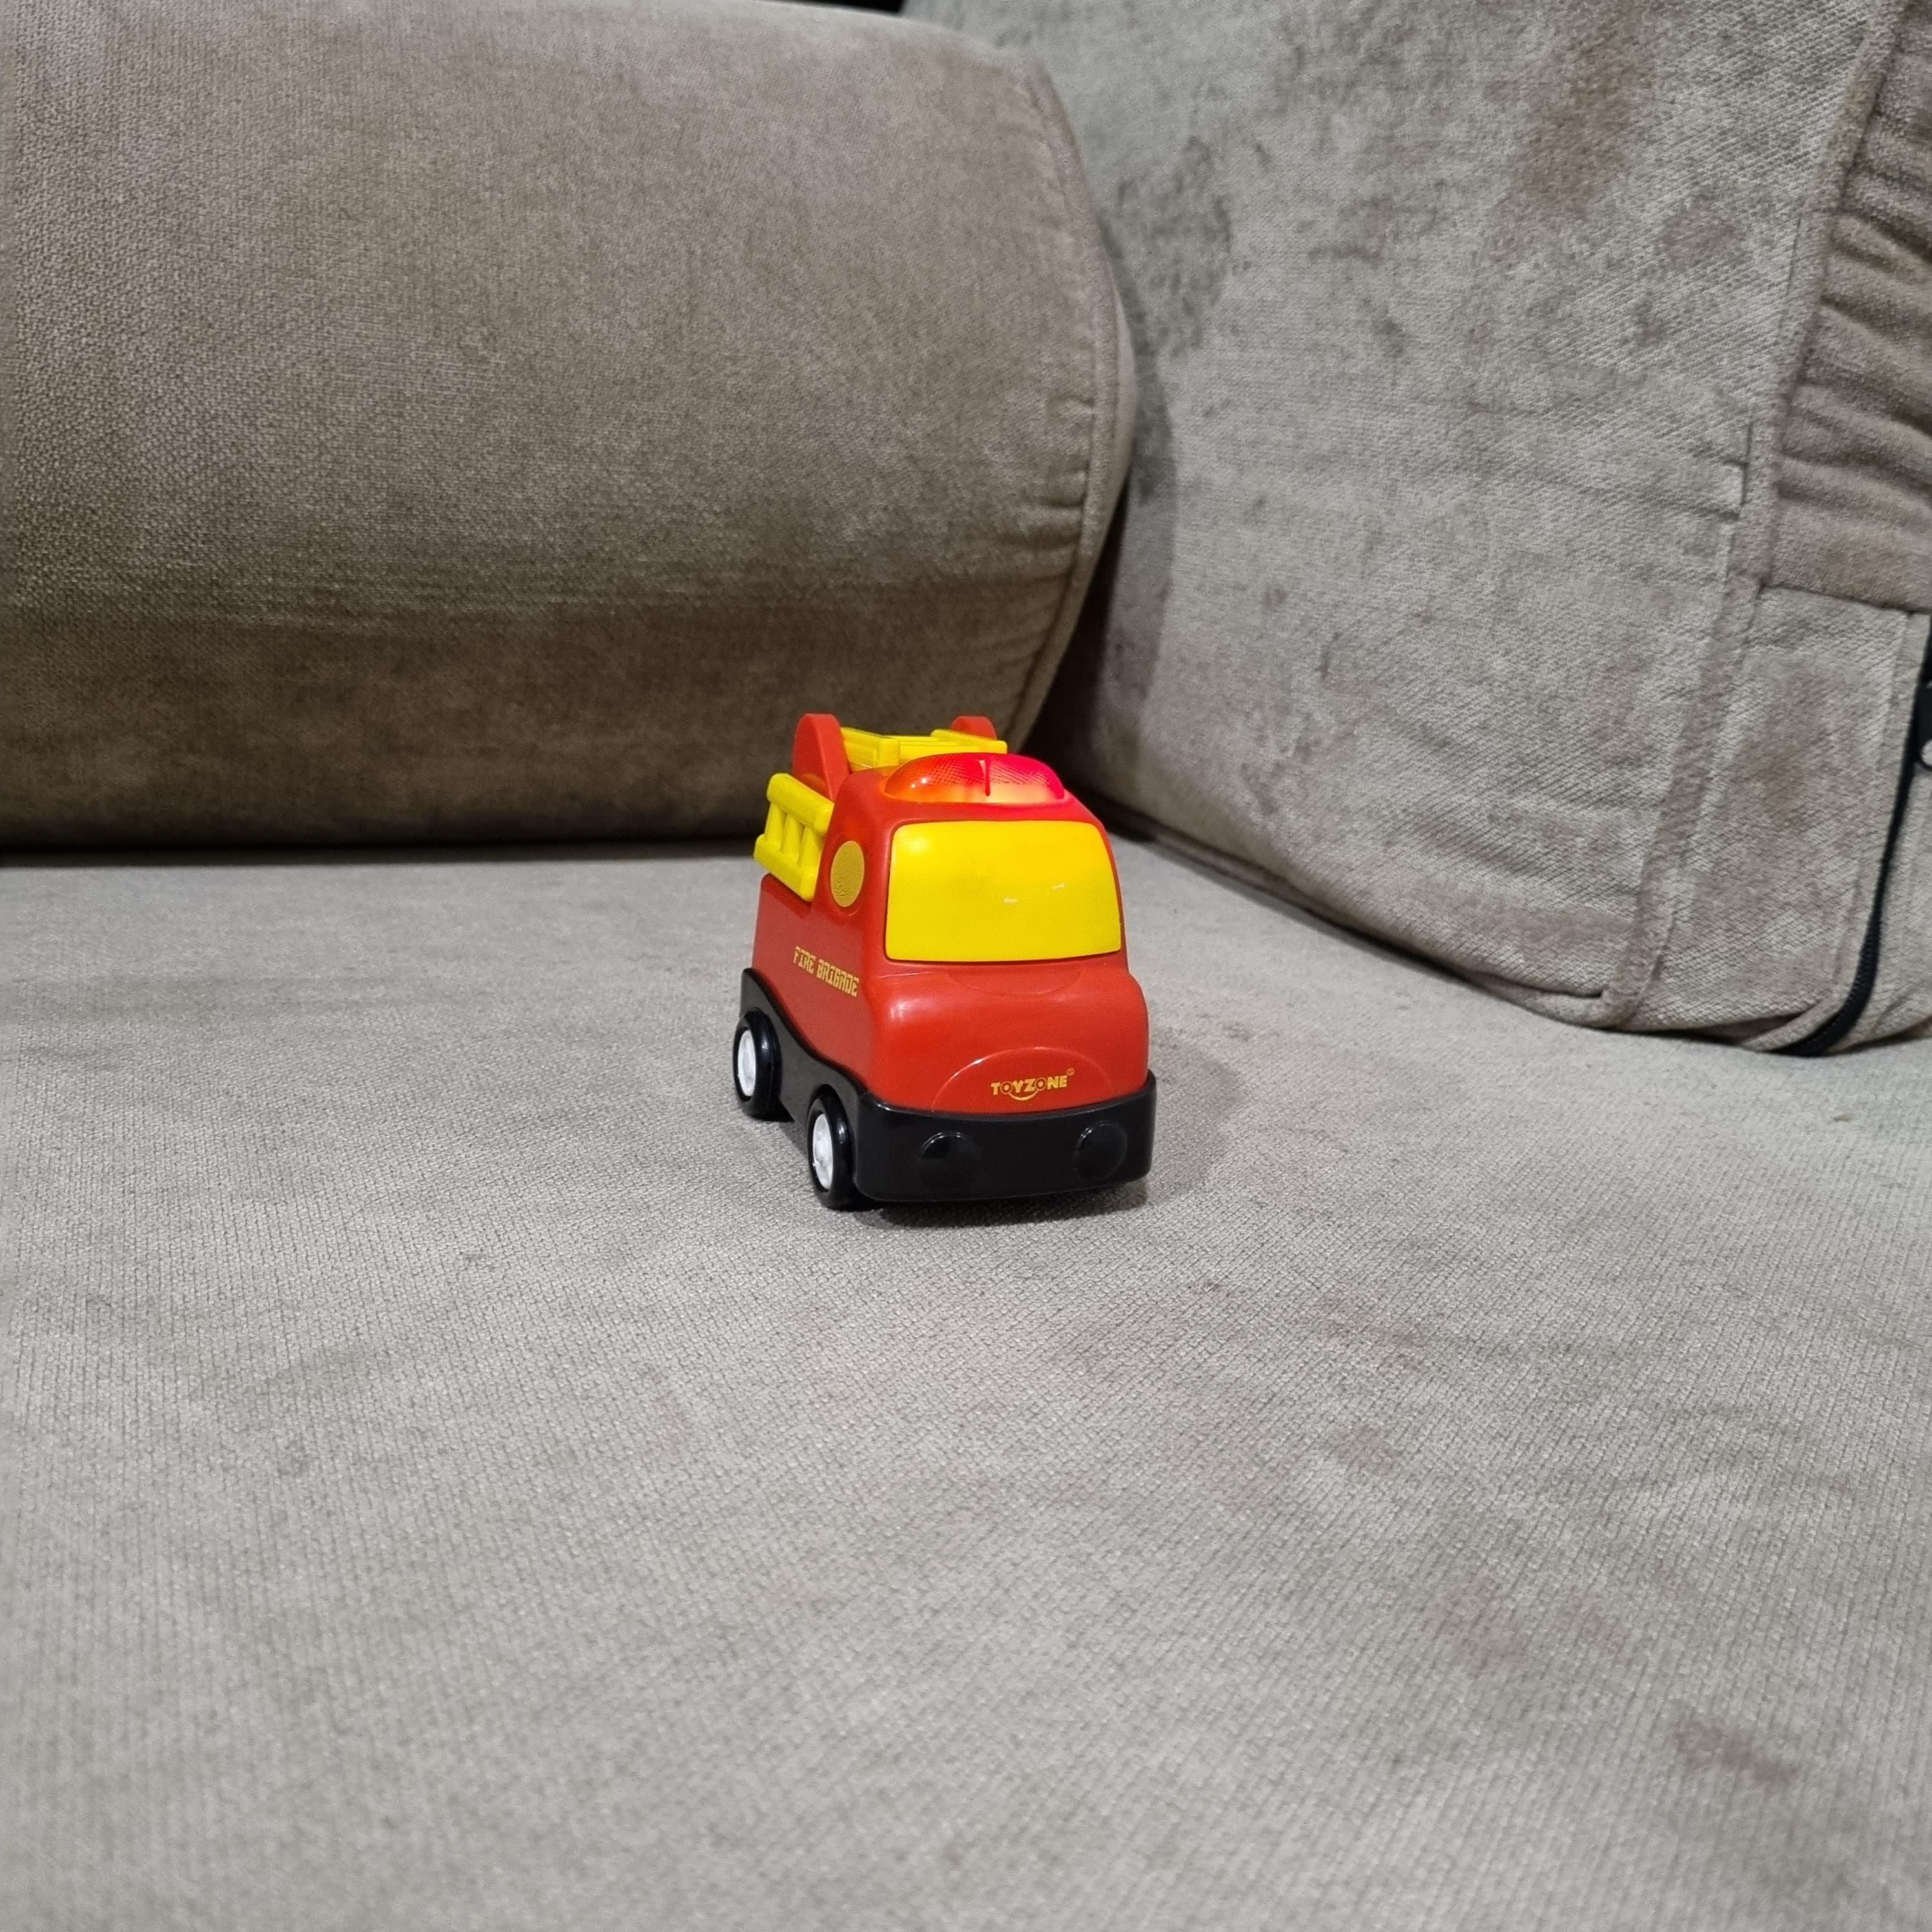firetruck_on: (734, 711, 1161, 1208)
